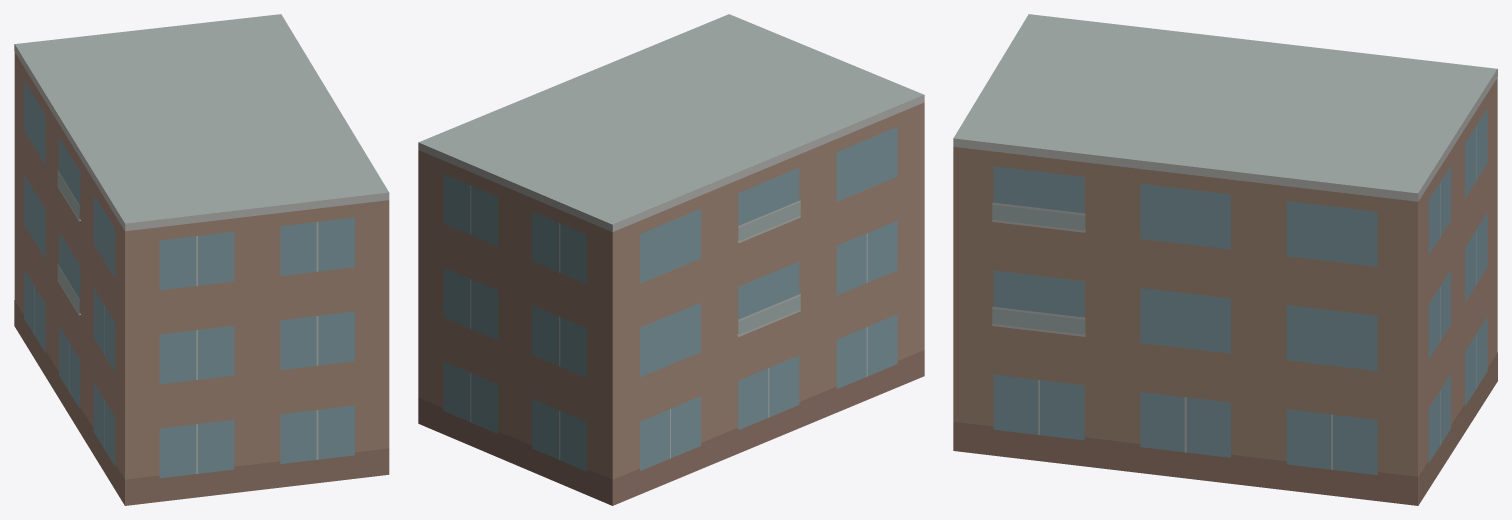
File: survey-upis-32984500.glb
The picture shows the model from 3 angles, left to right: view 1: azimuth 30°, elevation 25°; view 2: azimuth 150°, elevation 25°; view 3: azimuth 270°, elevation 25°; orthographic projection. The views are drawn at different scales.
Parts seen in each view (by area): view 1: survey-upis-32984500.tmp; view 2: survey-upis-32984500.tmp; view 3: survey-upis-32984500.tmp.
Boxes of the visible parts, box(x1,y1,x2,y2) form: survey-upis-32984500.tmp: box(14, 14, 389, 505); survey-upis-32984500.tmp: box(418, 14, 924, 505); survey-upis-32984500.tmp: box(953, 14, 1497, 505).
Bounding box in the file's own units: 11.28 × 9.15 × 14.46.
